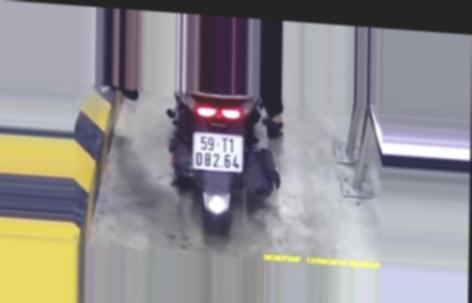License_Plate: (189, 130, 245, 174)
